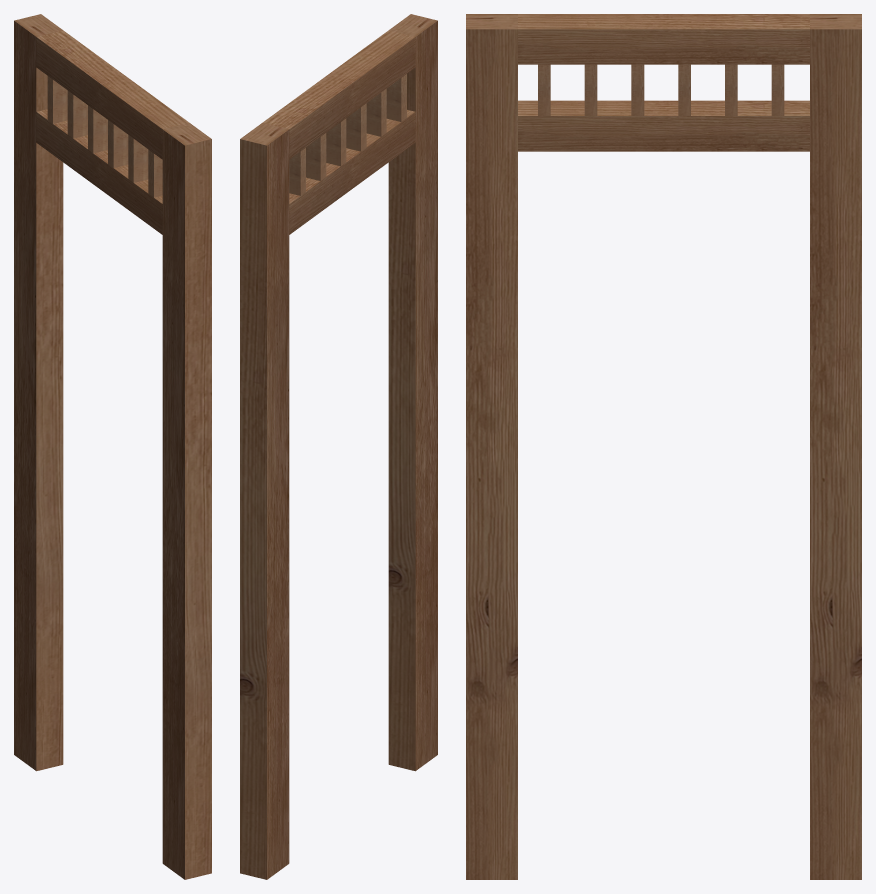
File: SM_Gyedong_Door_09C.fbx
The picture shows the model from 3 angles, left to right: view 1: azimuth 30°, elevation 25°; view 2: azimuth 150°, elevation 25°; view 3: azimuth 270°, elevation 25°; orthographic projection. The views are drawn at different scales.
Parts seen in each view (by area): view 1: SM_Gyedong_Door_09C; view 2: SM_Gyedong_Door_09C; view 3: SM_Gyedong_Door_09C.
Boxes of the visible parts, x1=… form: SM_Gyedong_Door_09C: x1=14, y1=14, x2=211, y2=879; SM_Gyedong_Door_09C: x1=240, y1=14, x2=437, y2=879; SM_Gyedong_Door_09C: x1=466, y1=14, x2=861, y2=879.
Bounding box in the file's own units: 8.33 × 217 × 91.43.
